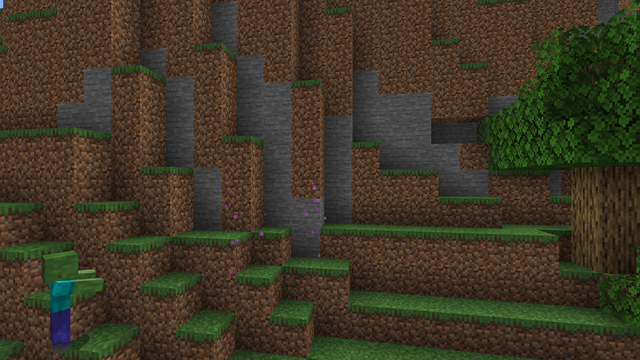zombies: (31, 252, 85, 357)
